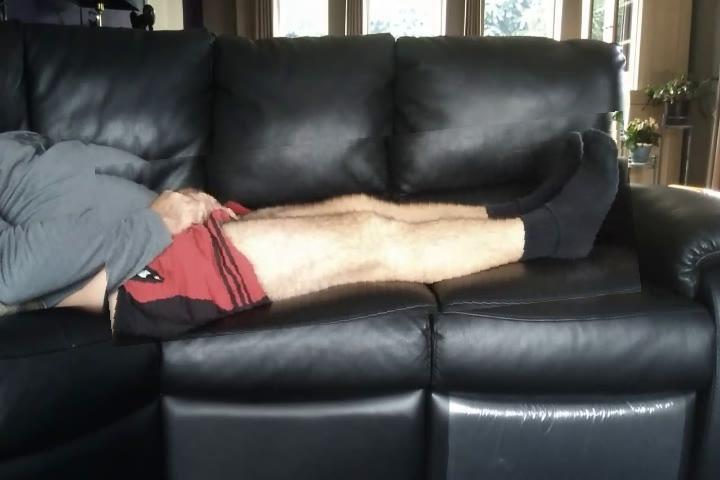lower_body: (99, 125, 638, 335)
